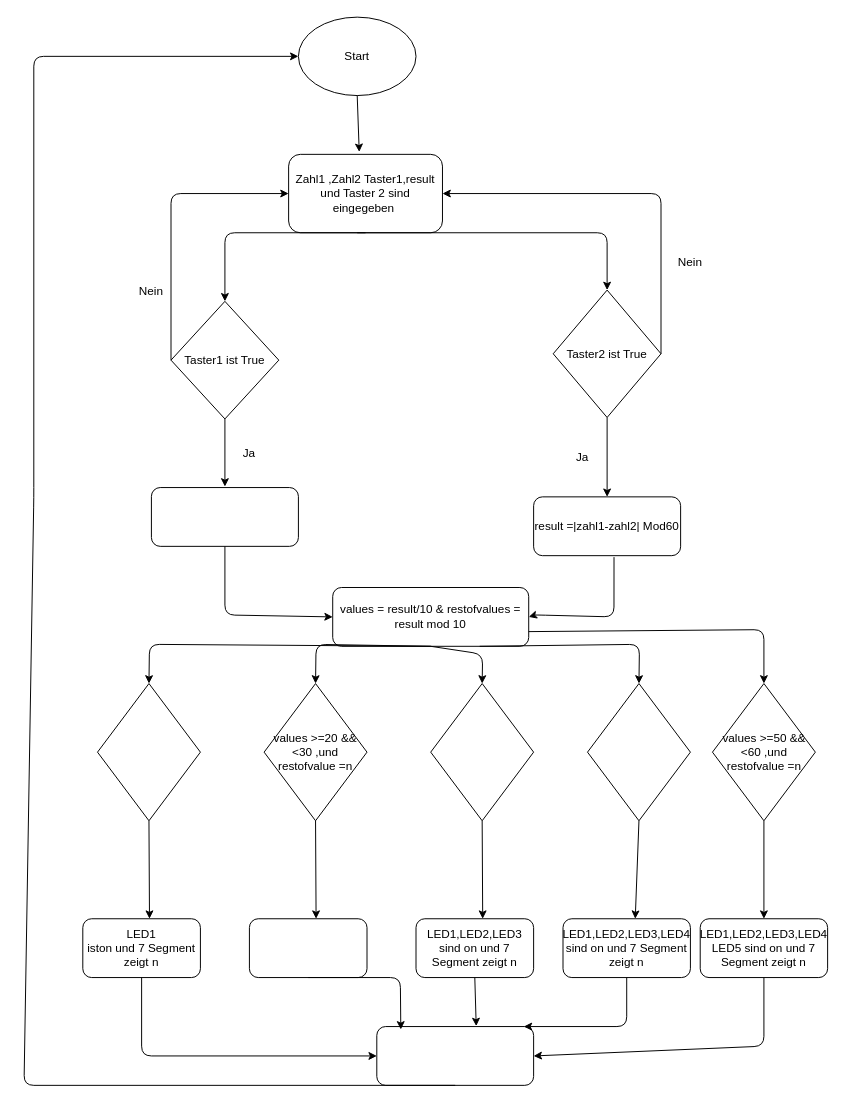
Some shapes in this 845 by 1110 pixel diagram are drawn without their labels. The centre of each missing label's shape, as x and y in pixels:
"As it is a continous Loop go back to Start" belongs at (x=455, y=1055).
"LED1,LED2 sind on und 7 Segment zeigt n" belongs at (x=307, y=948).
"result =|zahl1+zahl2| Mod60" belongs at (x=224, y=516).
"values >=10 && <20 ,und restofvalue =n" belongs at (x=148, y=752).
"values >=30 && <40 ,und restofvalue =n" belongs at (x=482, y=752).
"values >=40 && <50 ,und restofvalue =n" belongs at (x=638, y=752).
